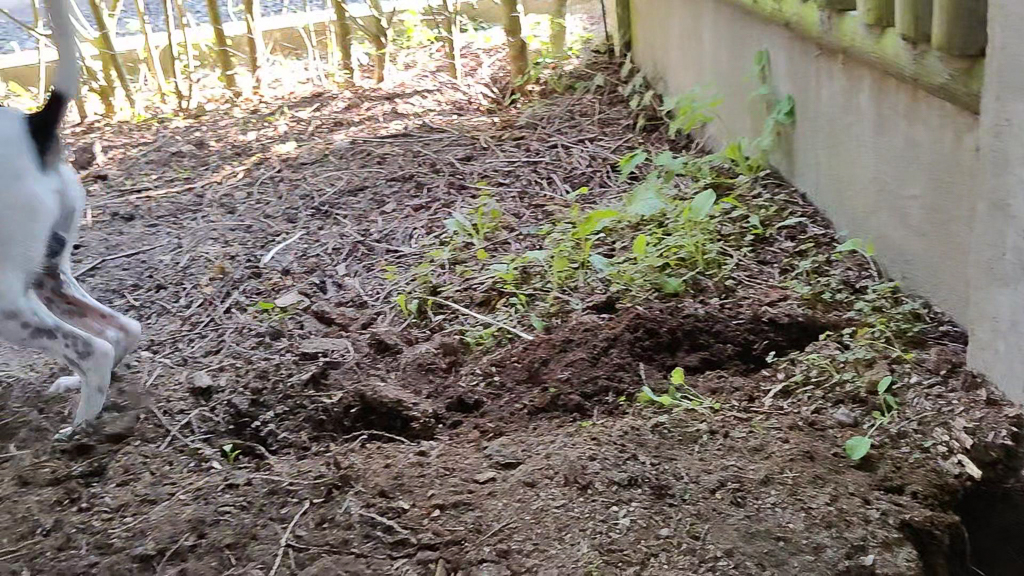Dog: (0, 0, 192, 457)
